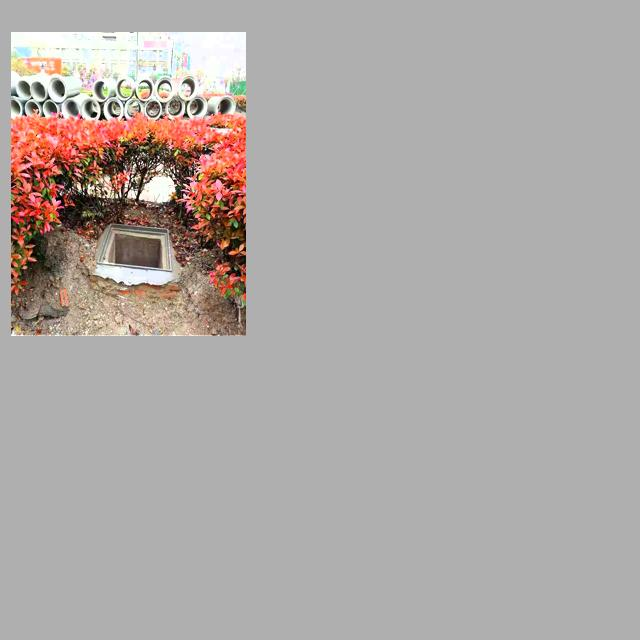lose: (96, 222, 173, 273)
